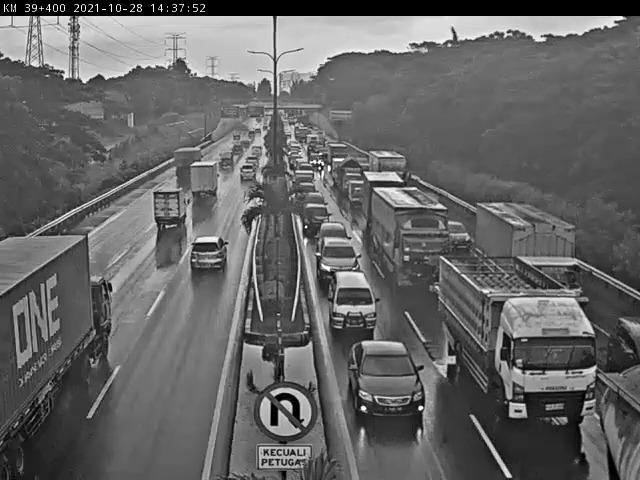big truck: (0, 226, 121, 476), (434, 249, 601, 426), (479, 204, 597, 315), (368, 183, 456, 293), (164, 145, 211, 183)
car: (344, 339, 453, 429), (184, 224, 231, 275), (318, 236, 361, 279), (444, 214, 475, 255), (304, 200, 340, 230), (320, 220, 361, 243)
small bus: (323, 273, 391, 328)
small truck: (139, 184, 211, 235), (184, 156, 227, 202)
